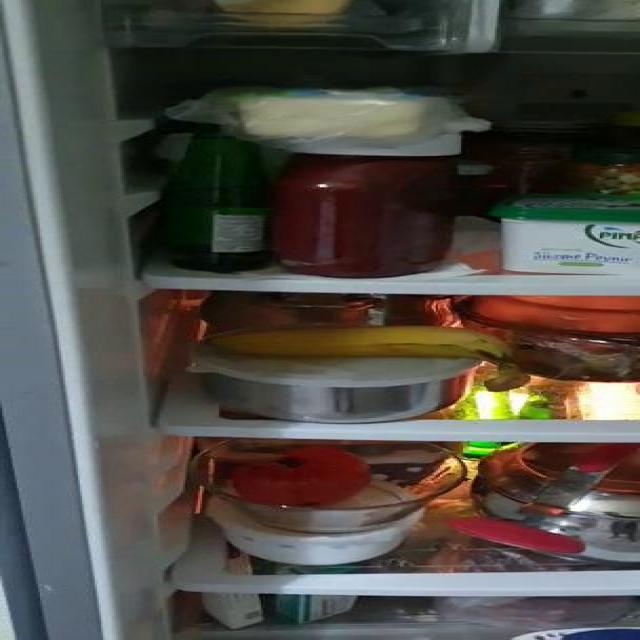banana: (215, 327, 514, 360)
cheese: (497, 196, 639, 271), (236, 91, 428, 134)
mineral water: (172, 126, 268, 267)
tomato: (240, 450, 369, 500)
tomato paste: (269, 149, 452, 279)
